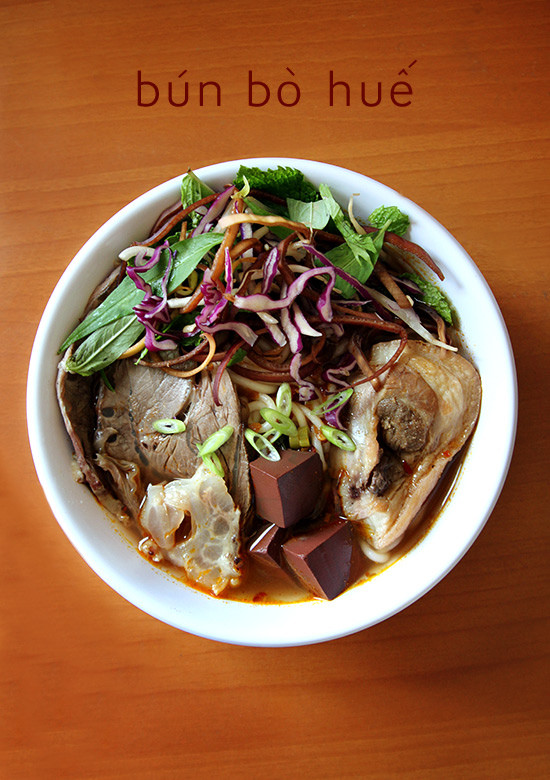beef: (130, 463, 240, 593), (103, 371, 241, 466)
pork: (340, 344, 481, 544)
vegetable: (144, 213, 387, 335)
